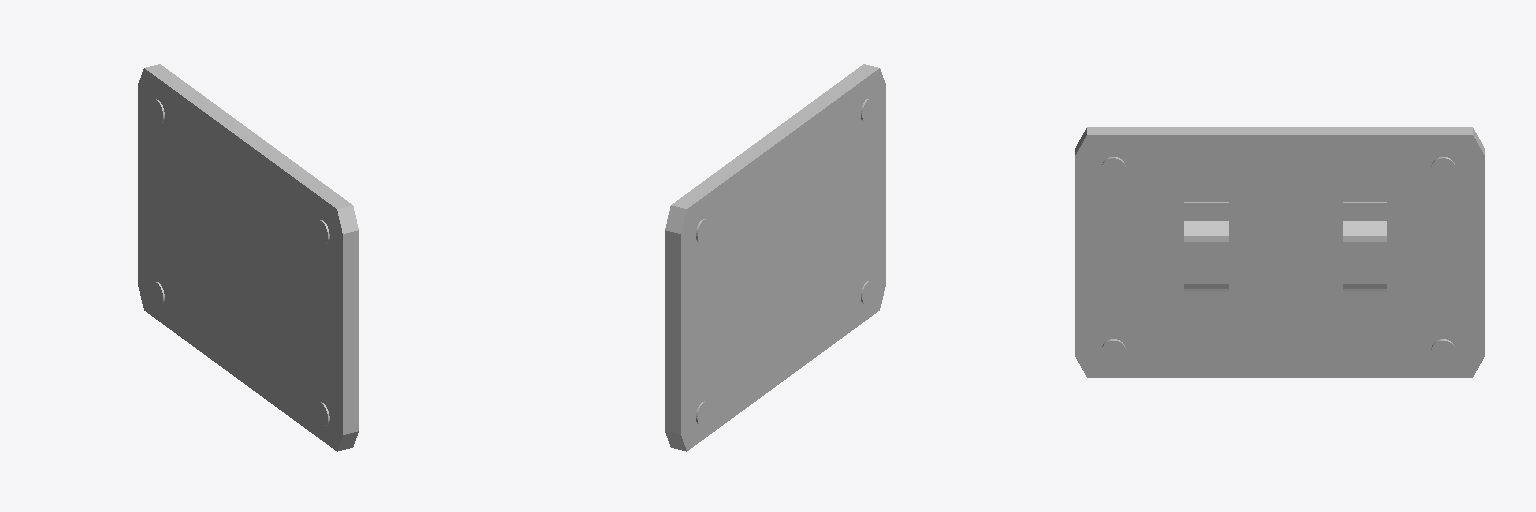
Rendered from podstawka zasuwki2.obj.
The picture shows the model from 3 angles: view 1: azimuth 30°, elevation 25°; view 2: azimuth 150°, elevation 25°; view 3: azimuth 270°, elevation 25°; orthographic projection.
Visible parts, largest first — view 1: Plane.007_Plane.019; view 2: Plane.007_Plane.019; view 3: Plane.007_Plane.019.
Boxes of the visible parts, box(x1,y1,x2,y2) form: Plane.007_Plane.019: box(138, 64, 358, 451); Plane.007_Plane.019: box(665, 64, 885, 451); Plane.007_Plane.019: box(1075, 127, 1484, 377).
Size of the model in its own units: 0.0138 by 0.0929 by 0.1422.